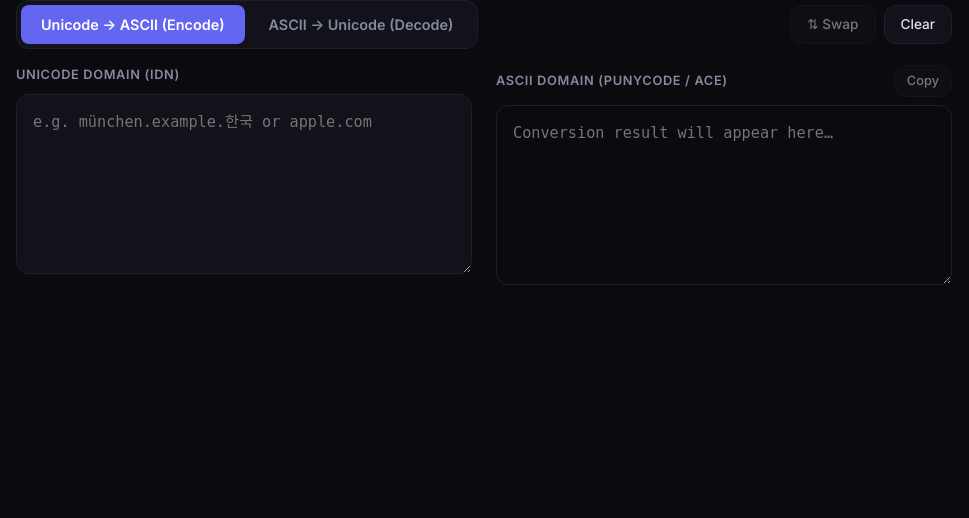
PunycodeTool actions › resets state when Clear button is clicked
The width and height of the screenshot is (969, 518).
Type "example.com" into the text box labelled "Unicode Domain (IDN)" at coordinates (244, 184), box [16,94,472,274]
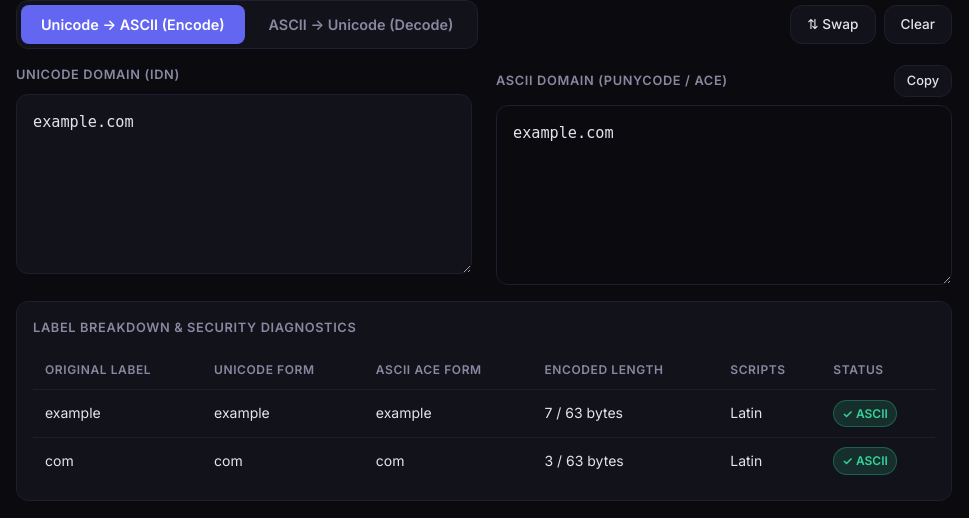
Expected: the text box labelled "ASCII Domain (Punycode / ACE)" holds "example.com", [496,105,952,285]
Click the button "Clear" at coordinates (918, 24), box [884,5,952,44]
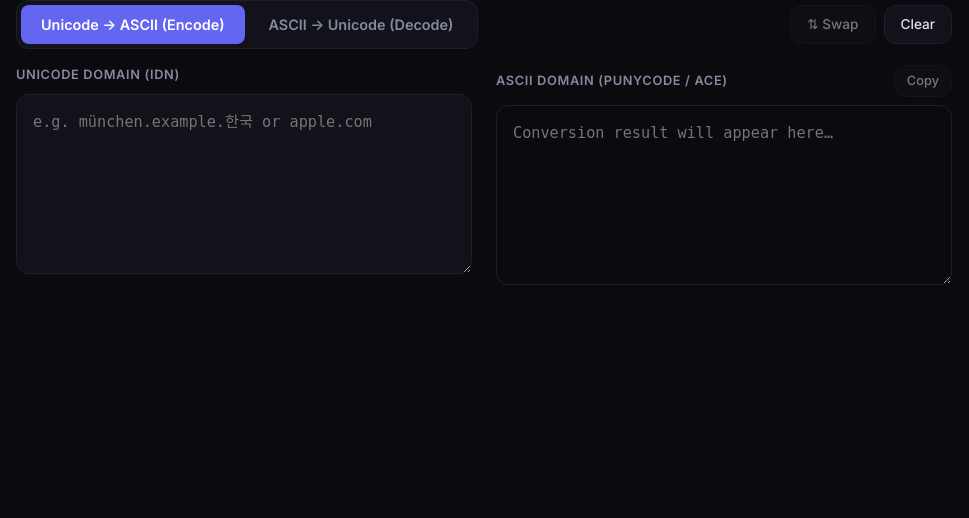
Expected: the text box labelled "Unicode Domain (IDN)" is empty, [16,94,472,274]
Expected: the text box labelled "ASCII Domain (Punycode / ACE)" is empty, [496,105,952,285]
Expected: the heading "Label Breakdown" is gone
